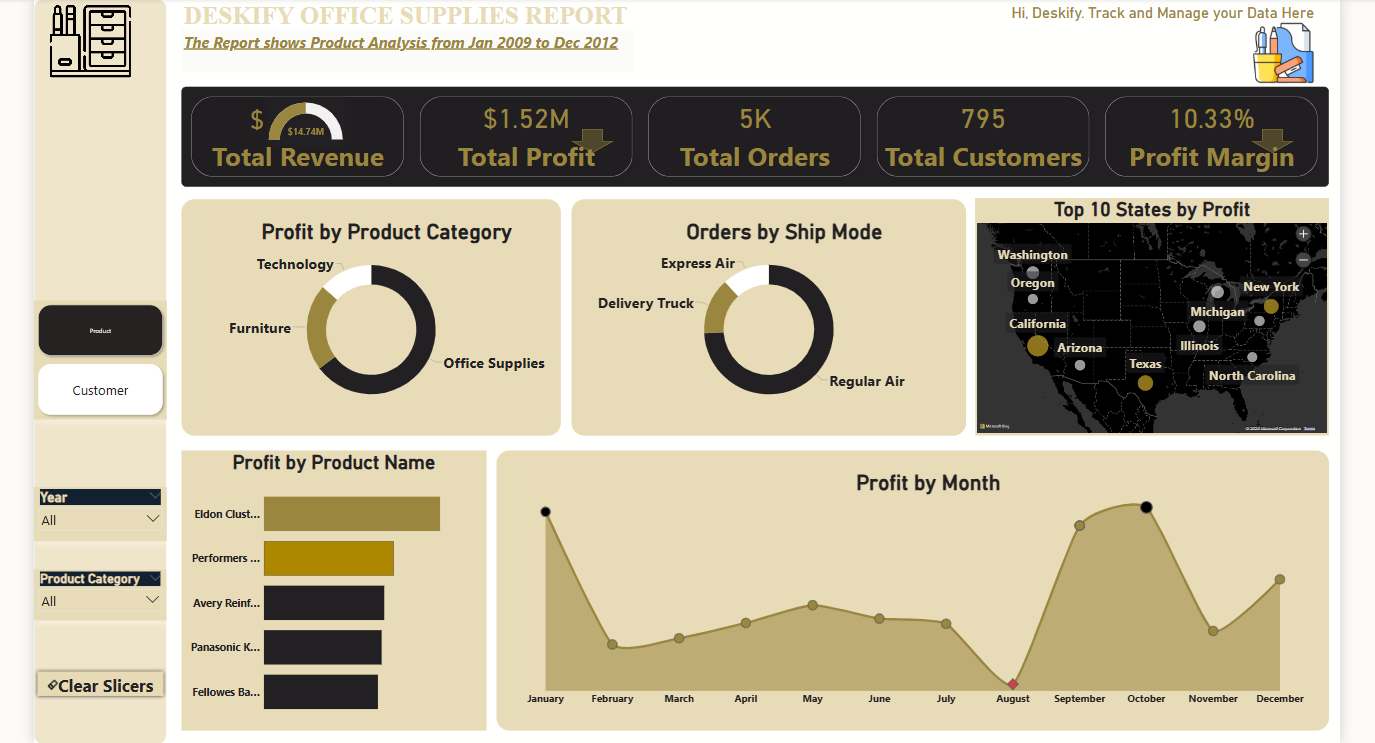

What the dashboard file says about the page in this screenshot:
{"tool":"powerbi","page":{"name":"Product","canvas":[2800,1600],"ordinal":0},"visuals":[{"type":"cardVisual","fields":{"Data":["Calculated Measures.Total Revenue","Calculated Measures.Total Profit","Calculated Measures.Total Orders","Calculated Measures.Total Customers","Calculated Measures.Profit Margin"]},"box":[316.4,190.3,2461.1,214.5],"z":0},{"type":"map","title":"Top 10 States by Profit","fields":{"Size":["Calculated Measures.Total Profit"],"Category":["Location Dim.State"]},"box":[2018.8,429,758.7,509.4],"z":1000},{"type":"donutChart","title":"Profit by Product Category","fields":{"Y":["Calculated Measures.Total Profit"],"Category":["Product Dim.Product Category"]},"box":[315.2,432.2,813.5,507.3],"z":2000},{"type":"donutChart","title":"Orders by Ship Mode","fields":{"Y":["Calculated Measures.Total Orders"],"Category":["Order Dim.Ship Mode"]},"box":[1152.7,432.2,846.5,507.3],"z":3000},{"type":"clusteredBarChart","title":"Profit by Product Name","fields":{"Y":["Calculated Measures.Total Profit"],"Category":["Product Dim.Product Name"]},"box":[316.4,970.5,654.2,600.5],"z":4000},{"type":"areaChart","title":"Profit by Month","fields":{"Y":["Calculated Measures.Total Profit"],"Category":["CalenderDim.MonthName"]},"box":[992,970.5,1785.5,600.5],"z":5000},{"type":"textbox","box":[0,2.7,284.2,1597.9],"z":6000},{"type":"pageNavigator","box":[0,648.4,285.2,255.1],"z":7000},{"type":"gauge","fields":{"Y":["Calculated Measures.Total Revenue"]},"box":[498.7,211.8,168.9,104.6],"z":8000},{"type":"slicer","fields":{"Values":["Product Dim.Product Category"]},"box":[0,1225.2,284.2,109.9],"z":9000},{"type":"slicer","fields":{"Values":["CalenderDim.Year"]},"box":[0,1047.6,285.2,117.1],"z":10000},{"type":"shape","box":[1152.7,282.2,90.1,51],"z":11000},{"type":"shape","box":[2611.5,282.2,90.1,51],"z":12000},{"type":"image","box":[30,0,183.1,186.1],"z":13000},{"type":"textbox","box":[315.2,3,972.6,90.1],"z":14000},{"type":"textbox","box":[316.4,67,970.5,91.2],"z":15000},{"type":"actionButton","box":[0,1436.4,285.1,67.9],"z":16000},{"type":"actionButton","title":"Hi, Deskify. Track and Manage your Data Here","box":[2096.2,13.6,678.8,54.3],"z":17000},{"type":"image","box":[2560.5,24.4,238.9,187.4],"z":18000}]}

Visuals, with their boxes on the page's 2800x1600 design canvas (x1, y1, x2, y2). These are canvas units, not pixel positions in the 1375x743 screenshot, which may show the page scaled, cropped or inside an application window:
cardVisual - Calculated Measures.Total Revenue x Calculated Measures.Total Profit: select_region(316, 190, 2778, 405)
"Top 10 States by Profit" map: select_region(2019, 429, 2778, 938)
"Profit by Product Category" donutChart: select_region(315, 432, 1129, 940)
"Orders by Ship Mode" donutChart: select_region(1153, 432, 1999, 940)
"Profit by Product Name" clusteredBarChart: select_region(316, 970, 971, 1571)
"Profit by Month" areaChart: select_region(992, 970, 2778, 1571)
textbox: select_region(0, 3, 284, 1601)
pageNavigator: select_region(0, 648, 285, 904)
gauge - Calculated Measures.Total Revenue: select_region(499, 212, 668, 316)
slicer - Product Dim.Product Category: select_region(0, 1225, 284, 1335)
slicer - CalenderDim.Year: select_region(0, 1048, 285, 1165)
shape: select_region(1153, 282, 1243, 333)
shape: select_region(2612, 282, 2702, 333)
image: select_region(30, 0, 213, 186)
textbox: select_region(315, 3, 1288, 93)
textbox: select_region(316, 67, 1287, 158)
actionButton: select_region(0, 1436, 285, 1504)
"Hi, Deskify. Track and Manage your Data Here" actionButton: select_region(2096, 14, 2775, 68)
image: select_region(2560, 24, 2799, 212)
